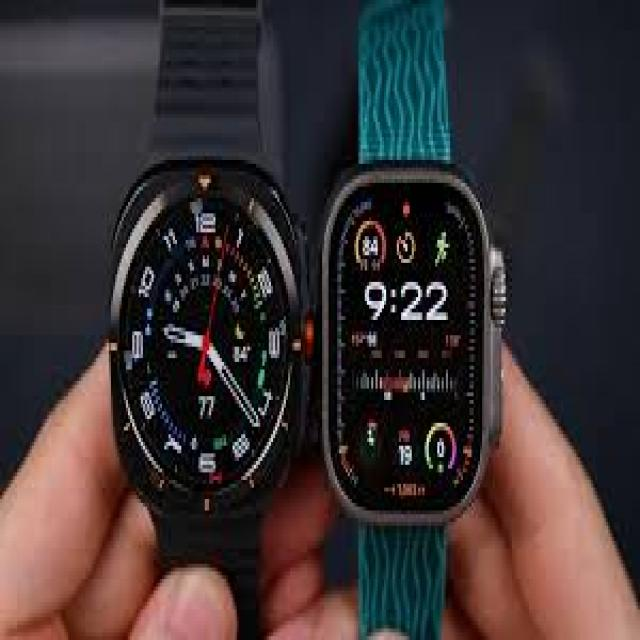objects: (101, 132, 317, 570), (319, 143, 511, 567)
